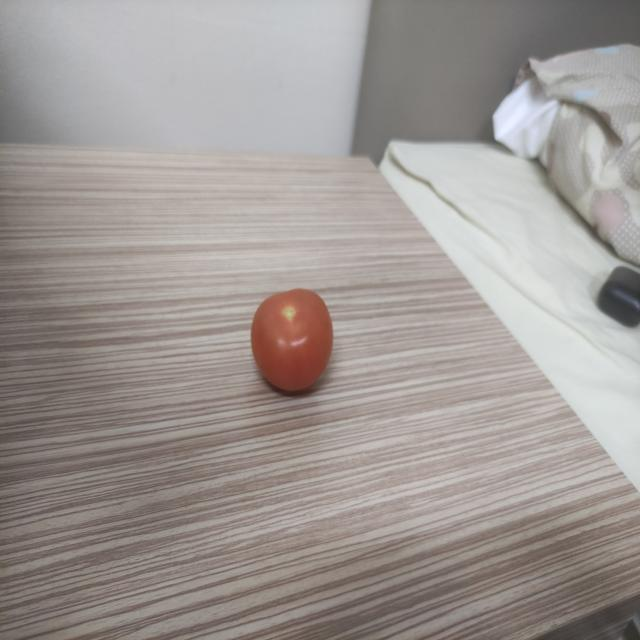sari: (235, 271, 350, 409)
